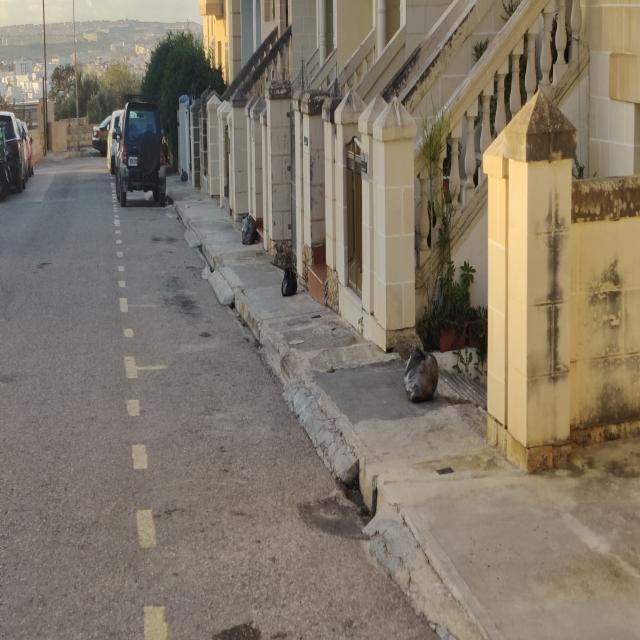Mixed Waste -Black Bags-: (404, 344, 439, 405), (280, 268, 297, 301), (242, 212, 257, 248), (180, 167, 188, 181)
